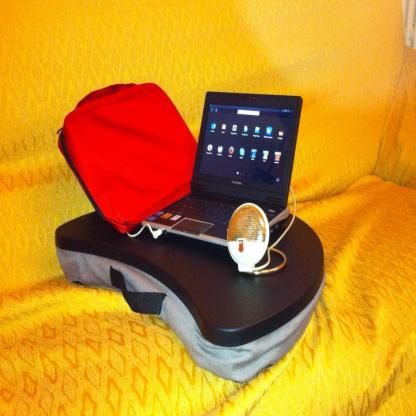board: (142, 90, 303, 246)
